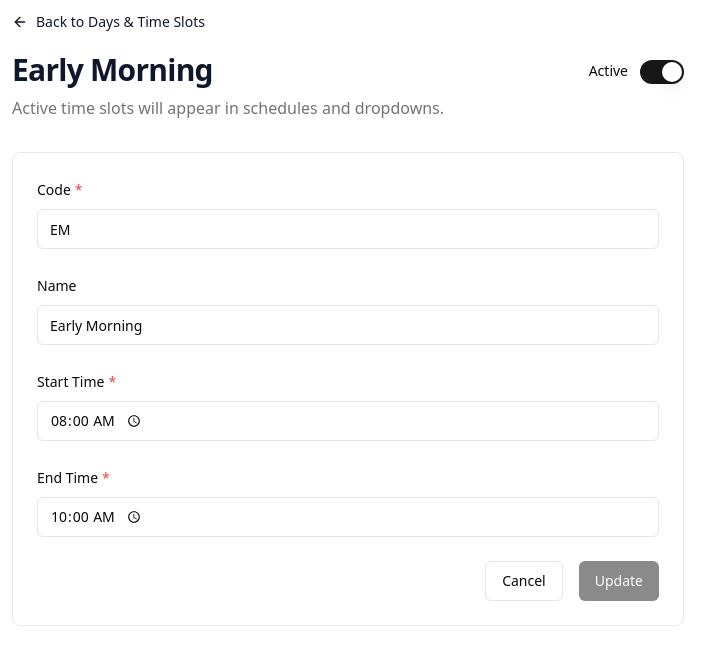
TimeSlotForm (edit) › shows validation error when end time is not after start time
Replace the text in the time field showing "08:00" with "11:00" at point(348, 421), box [37,401,659,441]
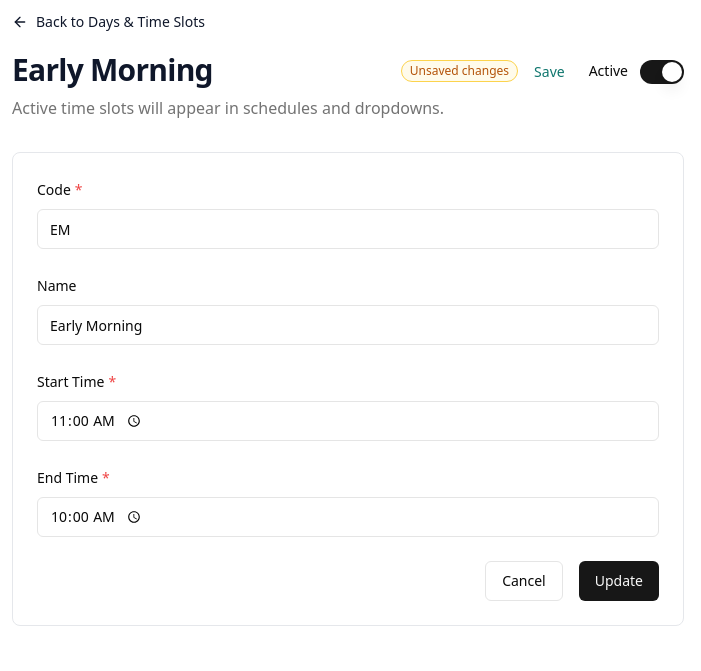
Replace the text in the time field showing "10:00" with "10:30" at point(348, 517), box [37,497,659,537]
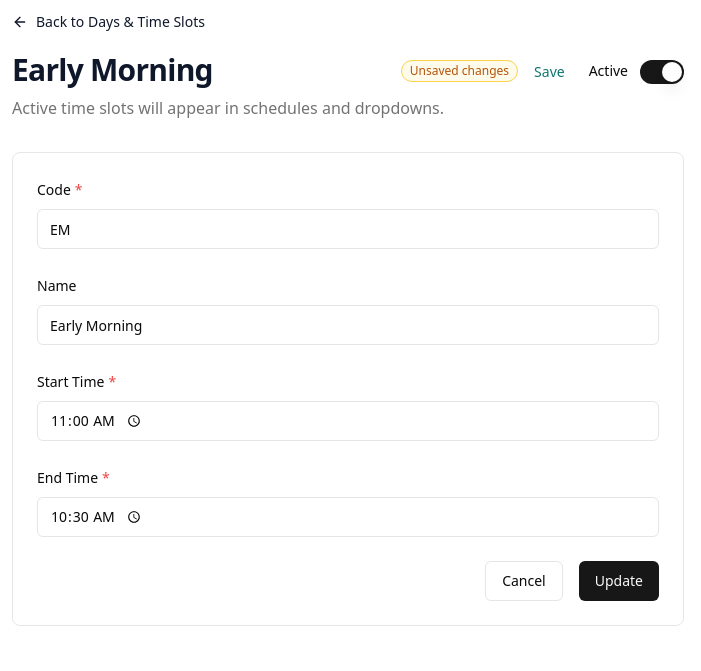
Click the button "Update" at point(619, 581), box [579,561,659,601]
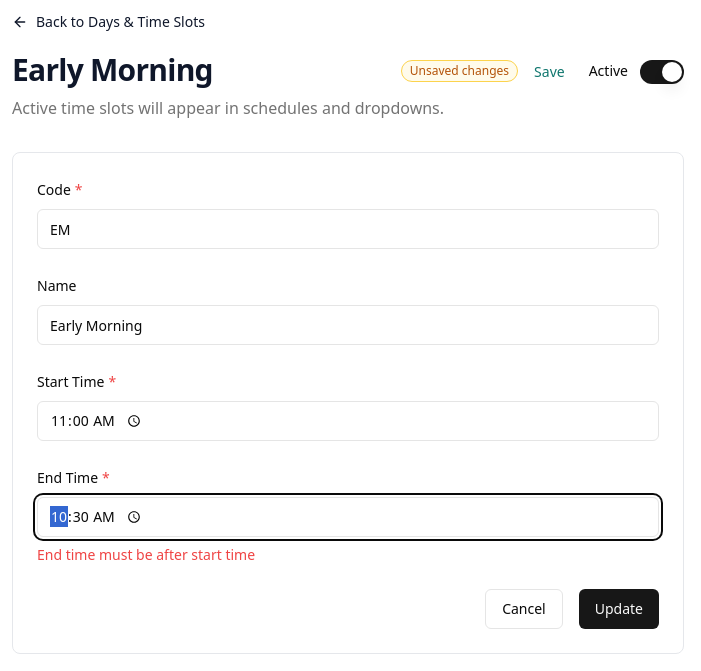
expect the text "End time must be after start time" is shown: met, box [37,545,255,564]
